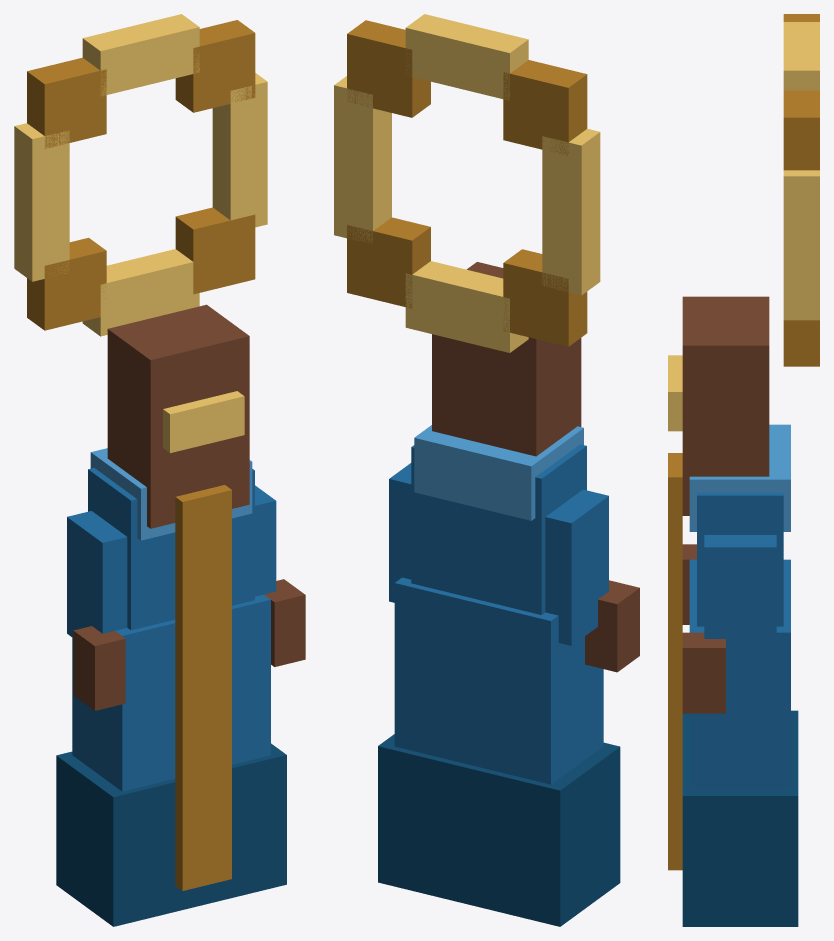
Rendered from mage.gltf.
The picture shows the model from 3 angles, left to right: view 1: azimuth 30°, elevation 25°; view 2: azimuth 150°, elevation 25°; view 3: azimuth 270°, elevation 25°; orthographic projection. The views are drawn at different scales.
Visible parts, largest first — view 1: 00_robe_hem, 02_rune_placket, 09_face, 01_robe_skirt, 07_robe, 14_rune_ring_left, 15_rune_ring_right, 05_left_sleeve, 18_rune_ring_crown, 11_rune_ring_foot, 16_rune_ring_upper_left, 17_rune_ring_upper_right (+7 smaller); view 2: 00_robe_hem, 01_robe_skirt, 09_face, 07_robe, 14_rune_ring_left, 08_collar, 05_left_sleeve, 15_rune_ring_right, 11_rune_ring_foot, 18_rune_ring_crown, 16_rune_ring_upper_left, 13_rune_ring_lower_right (+4 smaller); view 3: 00_robe_hem, 09_face, 01_robe_skirt, 06_right_sleeve, 02_rune_placket, 15_rune_ring_right, 07_robe, 08_collar, 04_right_hand_open, 17_rune_ring_upper_right, 18_rune_ring_crown, 13_rune_ring_lower_right (+2 smaller).
Boxes of the visible parts, left/top/right/bottom form: 00_robe_hem: left=56, top=743, right=286, bottom=926; 02_rune_placket: left=175, top=485, right=231, bottom=890; 09_face: left=107, top=304, right=249, bottom=528; 01_robe_skirt: left=72, top=594, right=270, bottom=791; 07_robe: left=88, top=468, right=254, bottom=630; 14_rune_ring_left: left=14, top=123, right=69, bottom=281; 15_rune_ring_right: left=212, top=73, right=267, bottom=227; 05_left_sleeve: left=67, top=511, right=127, bottom=637; 18_rune_ring_crown: left=82, top=14, right=199, bottom=96; 11_rune_ring_foot: left=82, top=249, right=199, bottom=336; 16_rune_ring_upper_left: left=27, top=57, right=106, bottom=148; 17_rune_ring_upper_right: left=175, top=20, right=255, bottom=112; 00_robe_hem: left=378, top=734, right=620, bottom=926; 01_robe_skirt: left=394, top=577, right=603, bottom=784; 09_face: left=432, top=262, right=581, bottom=456; 07_robe: left=411, top=444, right=586, bottom=614; 14_rune_ring_left: left=542, top=128, right=600, bottom=295; 08_collar: left=414, top=425, right=583, bottom=520; 05_left_sleeve: left=545, top=489, right=608, bottom=645; 15_rune_ring_right: left=334, top=76, right=391, bottom=244; 11_rune_ring_foot: left=405, top=261, right=528, bottom=352; 18_rune_ring_crown: left=405, top=14, right=528, bottom=100; 16_rune_ring_upper_left: left=503, top=60, right=587, bottom=155; 13_rune_ring_lower_right: left=347, top=217, right=430, bottom=308; 00_robe_hem: left=682, top=710, right=798, bottom=926; 09_face: left=682, top=296, right=769, bottom=515; 01_robe_skirt: left=689, top=559, right=790, bottom=789; 06_right_sleeve: left=704, top=535, right=776, bottom=664; 02_rune_placket: left=668, top=453, right=682, bottom=870; 15_rune_ring_right: left=783, top=170, right=819, bottom=320; 07_robe: left=697, top=492, right=783, bottom=626; 08_collar: left=689, top=424, right=790, bottom=531; 04_right_hand_open: left=682, top=632, right=725, bottom=713; 17_rune_ring_upper_right: left=783, top=90, right=819, bottom=170; 18_rune_ring_crown: left=783, top=22, right=819, bottom=90; 13_rune_ring_lower_right: left=783, top=320, right=819, bottom=366.
Bounding box in the file's own units: 0.5938 × 2 × 0.3281.
